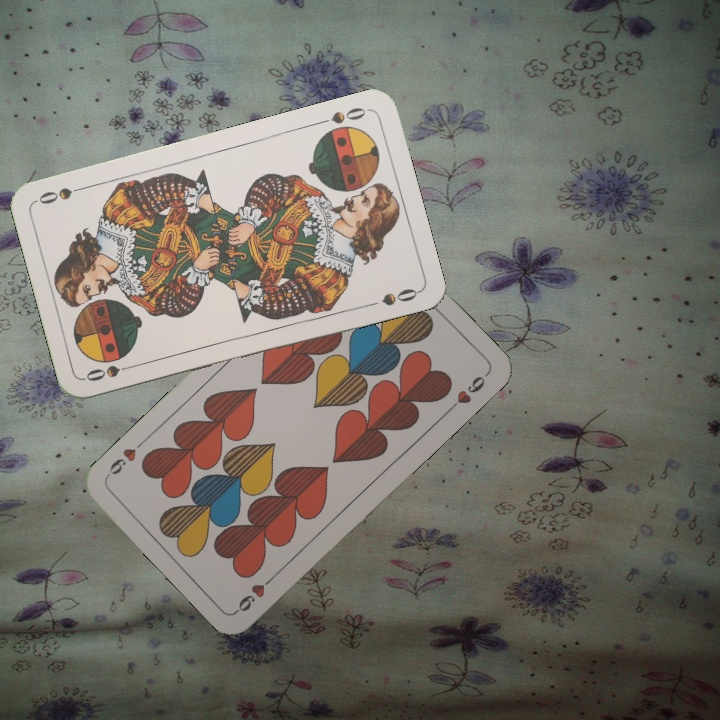H9: (232, 569, 280, 614)
SO: (81, 359, 140, 384), (313, 103, 371, 128)
